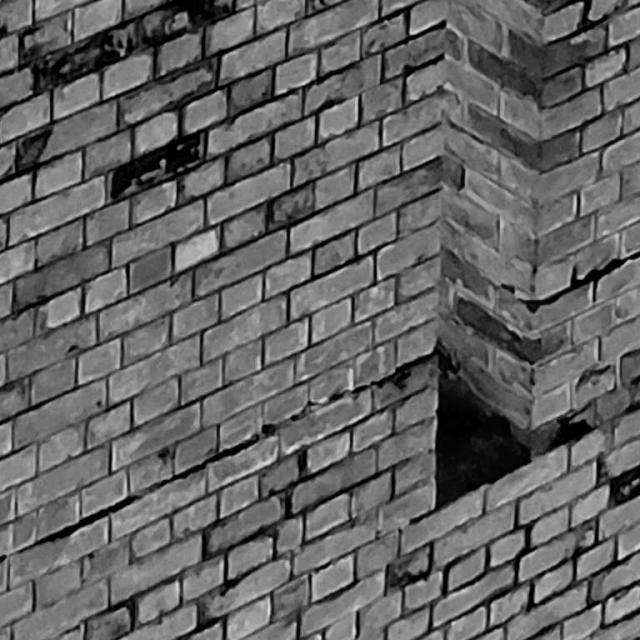crack: (1, 342, 438, 562), (501, 252, 639, 315)
